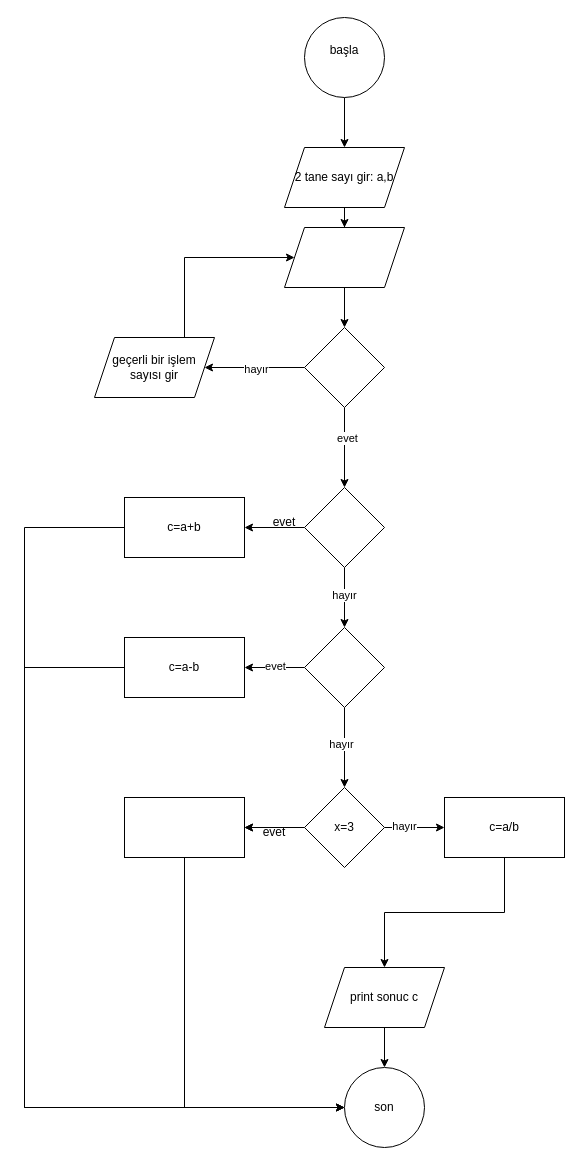
This 582x1165 diagram has some shape labels left out. Each missing label, with the centre of its shape:
0<x<5: pixel 344 367
c=a*b: pixel 184 827
x=1: pixel 344 527
x=2: pixel 344 667
yapılacak işlem=x: pixel 344 257
